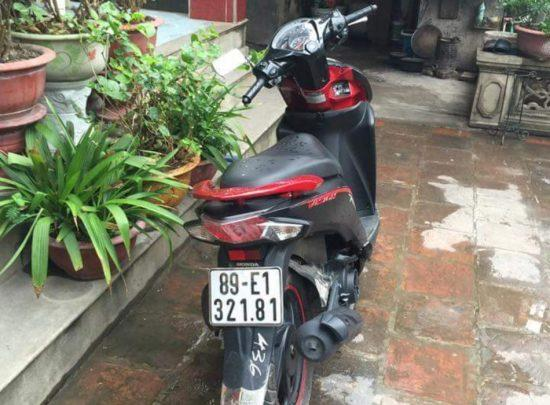numplate: (205, 263, 285, 329)
